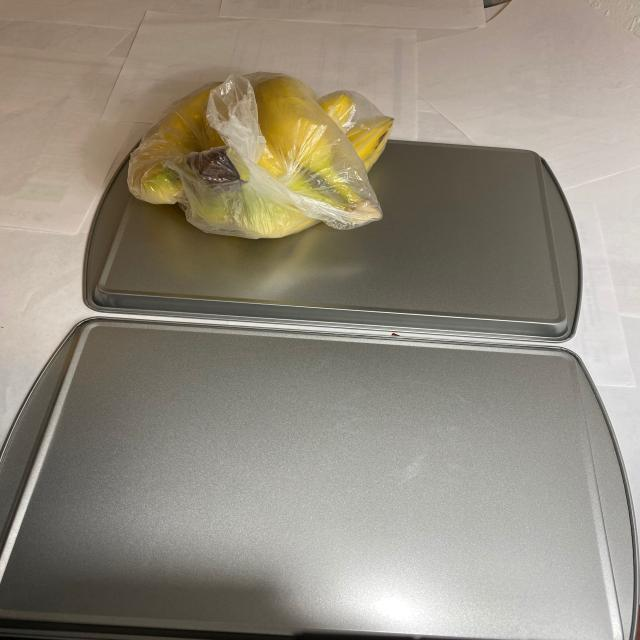banana: (119, 70, 397, 247)
